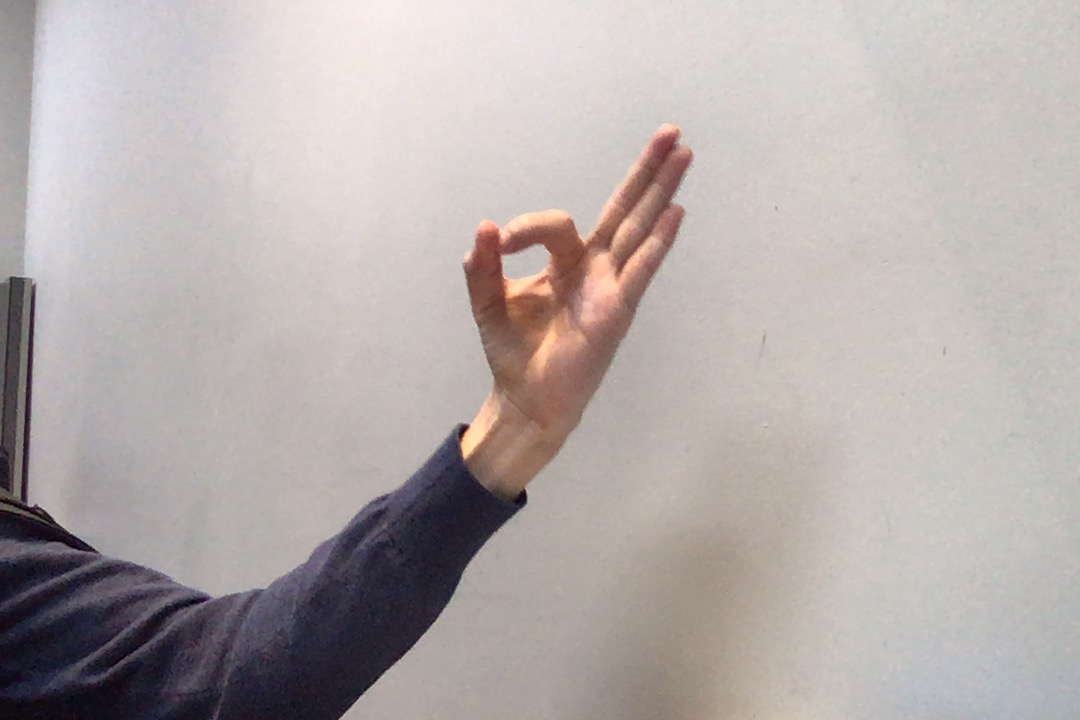oksign: (451, 114, 705, 431)
